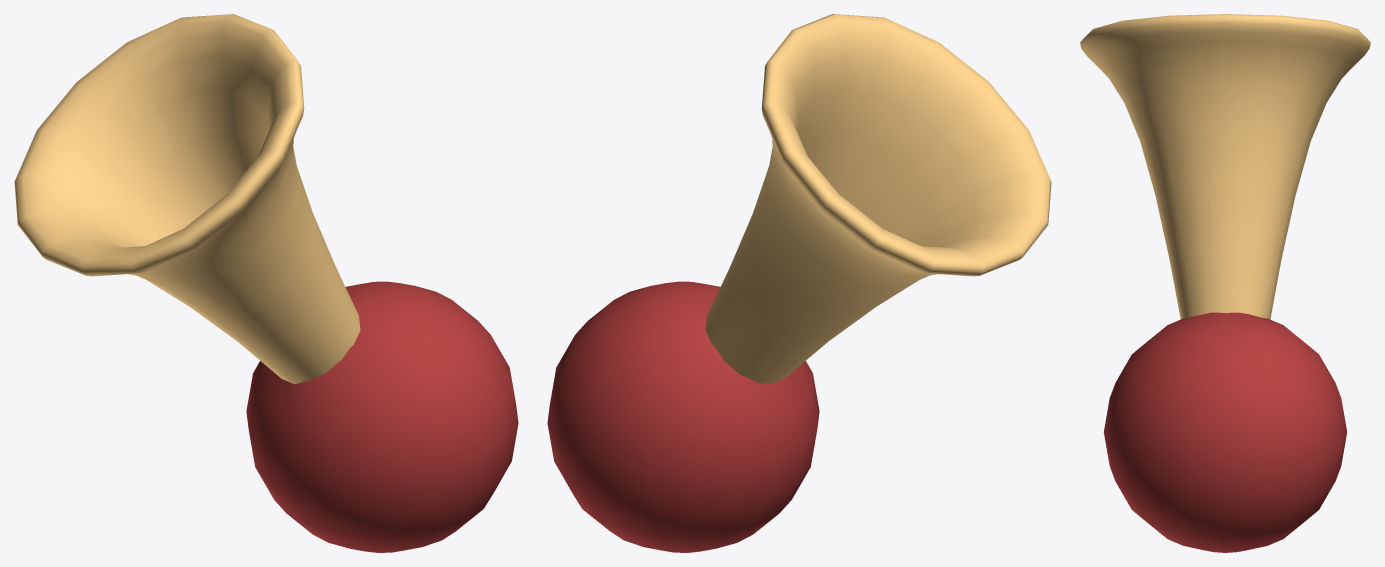
The model's file is scrap_horn.glb.
The picture shows the model from 3 angles, left to right: view 1: azimuth 30°, elevation 25°; view 2: azimuth 150°, elevation 25°; view 3: azimuth 270°, elevation 25°; orthographic projection. The views are drawn at different scales.
Visible parts, largest first — view 1: Object_3, Object_2; view 2: Object_3, Object_2; view 3: Object_3, Object_2.
Boxes of the visible parts, x1=… form: Object_3: x1=14, y1=14, x2=360, y2=384; Object_2: x1=246, y1=281, x2=518, y2=552; Object_3: x1=705, y1=14, x2=1051, y2=383; Object_2: x1=547, y1=281, x2=819, y2=552; Object_3: x1=1080, y1=14, x2=1370, y2=319; Object_2: x1=1103, y1=312, x2=1347, y2=552.
Size of the model in its own units: 1.16 by 1.3 by 0.7161.
2 materials, 2 textured.
